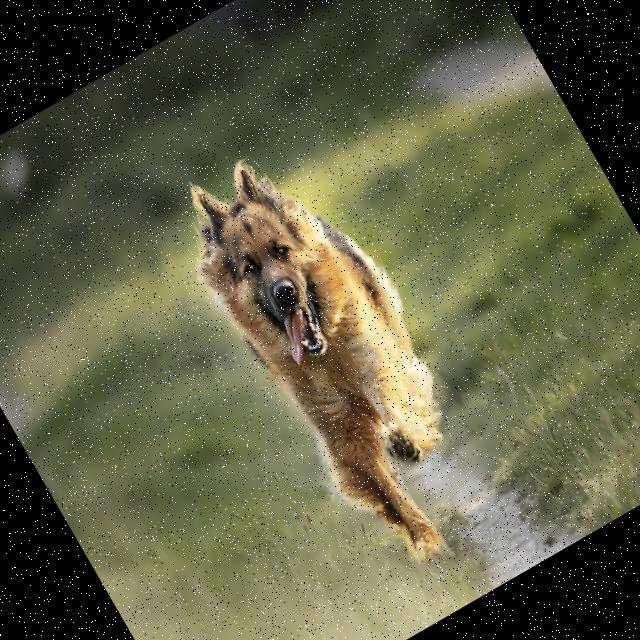Dog: (161, 122, 524, 586)
